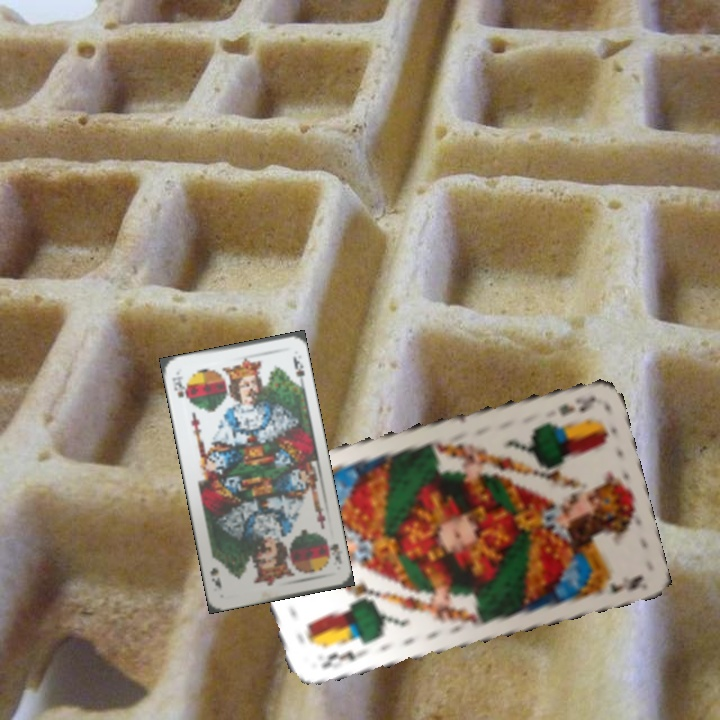EK: (554, 392, 597, 419), (317, 646, 363, 671)
SK: (321, 533, 345, 567), (168, 372, 190, 401)
